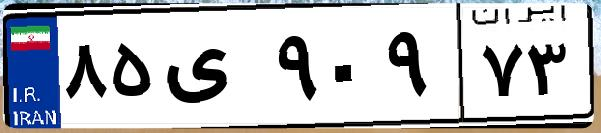0: (330, 28, 385, 110)
3: (525, 38, 570, 115)
5: (110, 28, 158, 98)
7: (475, 38, 525, 113)
8: (57, 26, 110, 100)
9: (270, 28, 330, 110), (385, 28, 445, 110)
ی: (158, 20, 270, 120)
